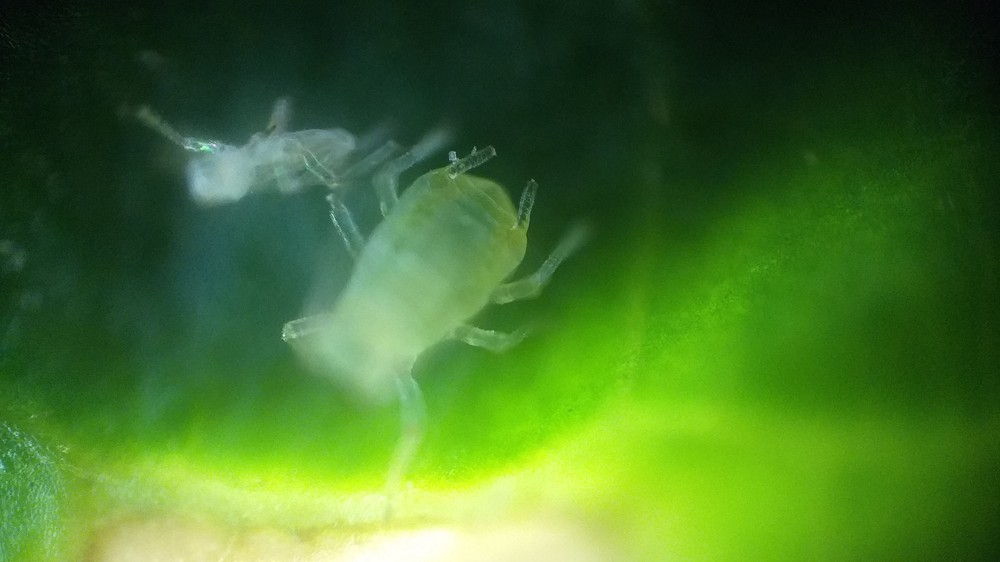Pulgon: (268, 132, 605, 463)
